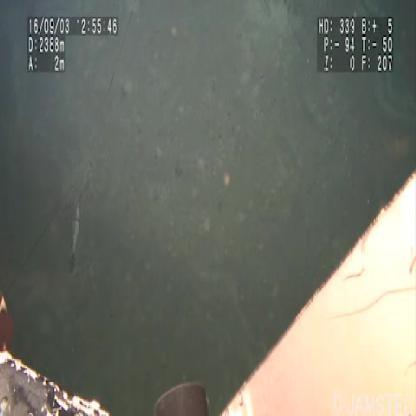Rov: (1, 169, 415, 415)
